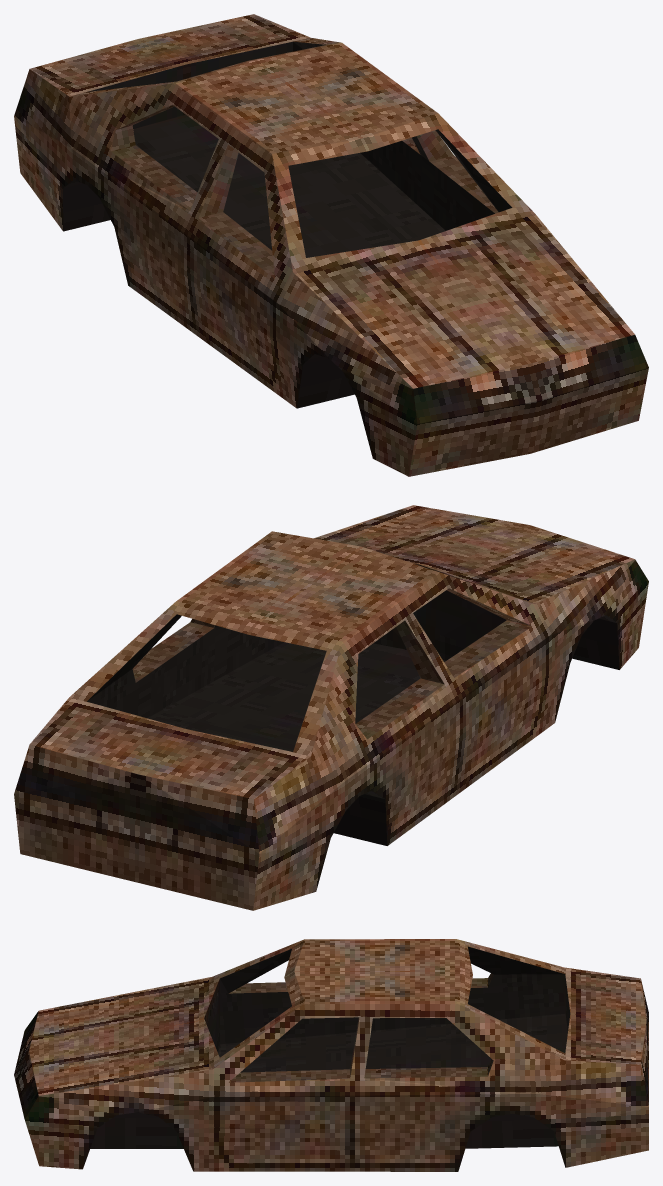
The model's file is car6.glb.
3 views of the same model, one above another, from view 1: azimuth 30°, elevation 25°; view 2: azimuth 150°, elevation 25°; view 3: azimuth 270°, elevation 25° (orthographic). The views are drawn at different scales.
Parts seen in each view (by area): view 1: Car6; view 2: Car6; view 3: Car6.
Boxes of the visible parts, x1,y1,x2,y2 form: Car6: (14, 14, 648, 476); Car6: (14, 505, 648, 910); Car6: (14, 939, 648, 1171).
Bounding box in the file's own units: 2.48 × 1.67 × 6.36.
Materials: 1 (1 with a texture image).
